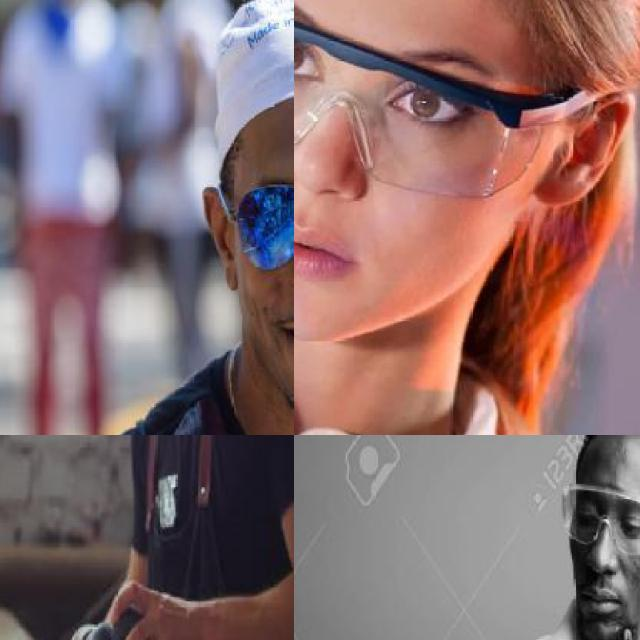No_Ear-Protection: (537, 91, 639, 202)
face_nomask: (294, 15, 491, 302), (566, 494, 640, 627), (246, 170, 294, 370)
glasses: (294, 0, 594, 203), (220, 155, 294, 276), (561, 480, 640, 560)
hand_noglove: (99, 574, 205, 640)
person: (57, 435, 294, 640), (456, 435, 640, 640)
